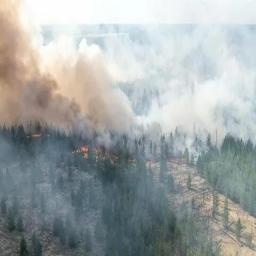Heavy smoke: (1, 2, 256, 129)
Low smoke: (1, 132, 117, 255)
Small fire: (46, 131, 132, 166)
